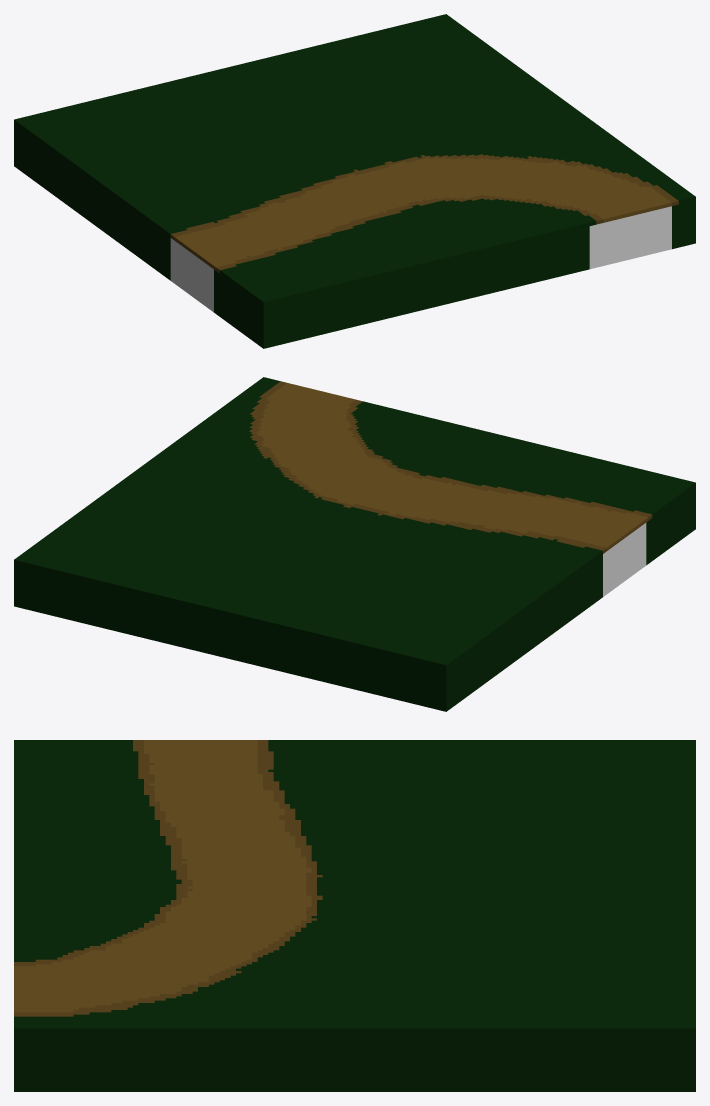
File: map-19.obj
3 renders of one model, top to bottom at view 1: azimuth 30°, elevation 25°; view 2: azimuth 150°, elevation 25°; view 3: azimuth 270°, elevation 25°, orthographic. The views are drawn at different scales.
Parts seen in each view (by area): view 1: map-19; view 2: map-19; view 3: map-19.
Boxes of the visible parts, left/top/right/bottom form: map-19: left=14, top=14, right=695, bottom=348; map-19: left=14, top=377, right=695, bottom=711; map-19: left=14, top=740, right=695, bottom=1091.
Bounding box in the file's own units: 126 × 13 × 126.
Materials: 1 (1 with a texture image).
